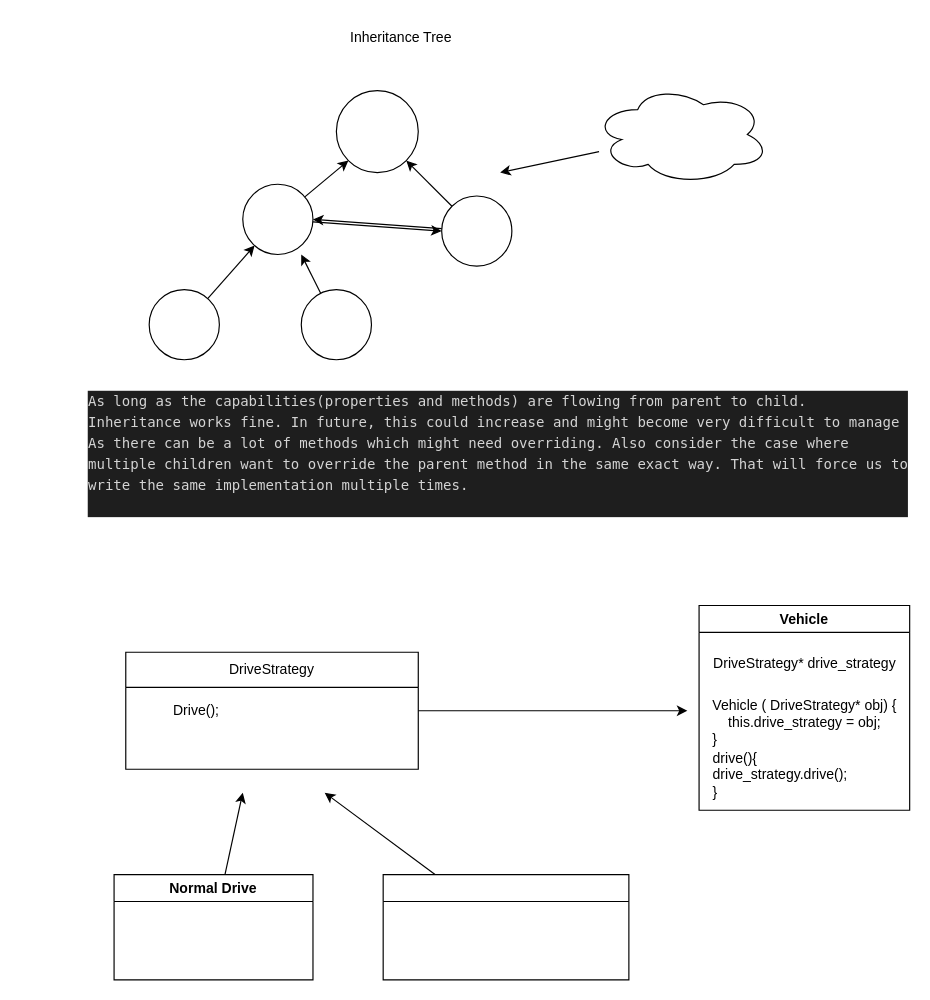
Image size: 930x1000. Some labels were removed from this diagram. Each missing label, with the centre of its shape:
Not Scalable: the point at 681,134
Special Drive: the point at 505,926
